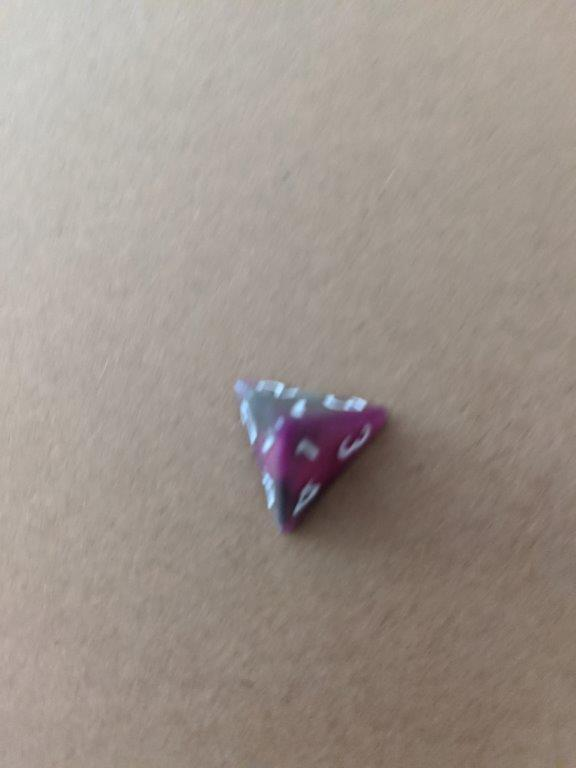d4-1: (227, 376, 393, 544)
